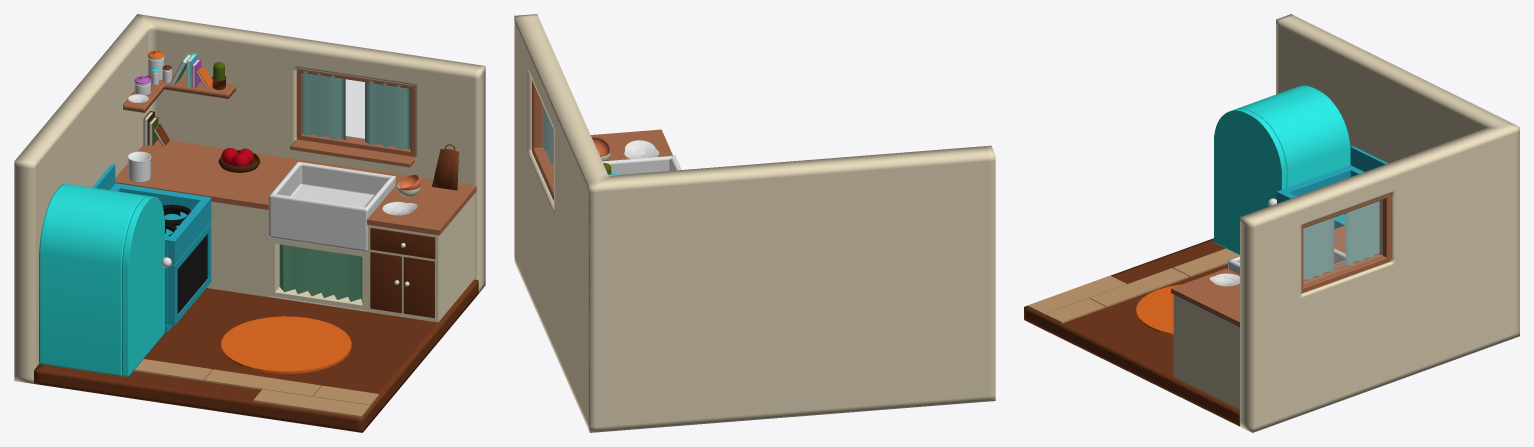
3 views of the same model, side by side, from view 1: azimuth 30°, elevation 25°; view 2: azimuth 150°, elevation 25°; view 3: azimuth 270°, elevation 25° (orthographic). The views are drawn at different scales.
Parts seen in each view (by area): view 1: Cube.447, Cube.446, Cube.429, Cube.443, Cube.442, Cube.441, Cylinder.085, Plane.052, Cube.427, Cube.428, Plane.053, Cube.444 (+8 smaller); view 2: Cube.447, Cube.440, Cube.442, Cube.441, Plane.054, Cylinder.095; view 3: Cube.447, Cube.429, Cube.446, Cube.443, Plane.054, Plane.052, Cube.444, Cube.442, Cube.440, Cube.428, Cylinder.085, Cube.445.
Boxes of the visible parts, left/top/right/bottom form: Cube.447: left=14, top=14, right=485, bottom=383; Cube.446: left=34, top=279, right=478, bottom=432; Cube.429: left=39, top=183, right=164, bottom=376; Cube.443: left=207, top=193, right=474, bottom=322; Cube.442: left=115, top=139, right=476, bottom=235; Cube.441: left=269, top=161, right=395, bottom=252; Cylinder.085: left=221, top=316, right=351, bottom=373; Plane.052: left=302, top=71, right=410, bottom=149; Cube.427: left=370, top=227, right=435, bottom=318; Cube.428: left=92, top=164, right=211, bottom=332; Plane.053: left=279, top=244, right=362, bottom=302; Cube.444: left=133, top=359, right=378, bottom=405; Cube.447: left=514, top=14, right=995, bottom=432; Cube.440: left=532, top=80, right=553, bottom=200; Cube.442: left=591, top=129, right=672, bottom=160; Cube.441: left=602, top=155, right=681, bottom=174; Plane.054: left=541, top=102, right=553, bottom=176; Cylinder.095: left=625, top=140, right=655, bottom=158; Cube.447: left=1240, top=14, right=1519, bottom=432; Cube.429: left=1214, top=85, right=1350, bottom=255; Cube.446: left=1024, top=238, right=1239, bottom=426; Cube.443: left=1173, top=295, right=1239, bottom=409; Plane.054: left=1303, top=200, right=1382, bottom=283; Plane.052: left=1303, top=201, right=1379, bottom=279; Cube.444: left=1045, top=248, right=1239, bottom=323; Cube.442: left=1171, top=225, right=1378, bottom=326; Cube.440: left=1301, top=194, right=1390, bottom=293; Cube.428: left=1277, top=146, right=1387, bottom=228; Cylinder.085: left=1136, top=284, right=1180, bottom=335; Cube.445: left=1027, top=275, right=1126, bottom=315.
Bounding box in the file's own units: 10 × 4.66 × 10.
